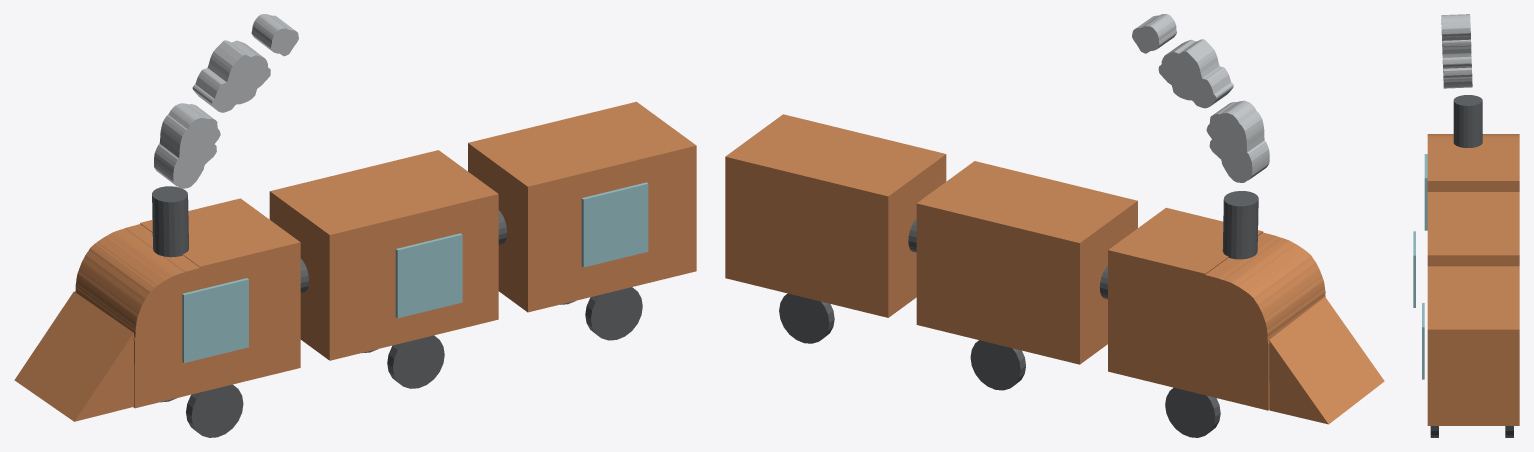
The model's file is train.glb.
3 views of the same model, side by side, from view 1: azimuth 30°, elevation 25°; view 2: azimuth 150°, elevation 25°; view 3: azimuth 270°, elevation 25° (orthographic). The views are drawn at different scales.
Visible parts, largest first — view 1: Mesh_Mesh_head_geo.001_lambert2SG.001; view 2: Mesh_Mesh_head_geo.001_lambert2SG.001; view 3: Mesh_Mesh_head_geo.001_lambert2SG.001.
Part boxes in pixels (<box>): Mesh_Mesh_head_geo.001_lambert2SG.001: <box>14,14,696,437</box>; Mesh_Mesh_head_geo.001_lambert2SG.001: <box>725,14,1384,437</box>; Mesh_Mesh_head_geo.001_lambert2SG.001: <box>1413,14,1519,437</box>.
Size of the model in its own units: 192 by 114 by 37.
